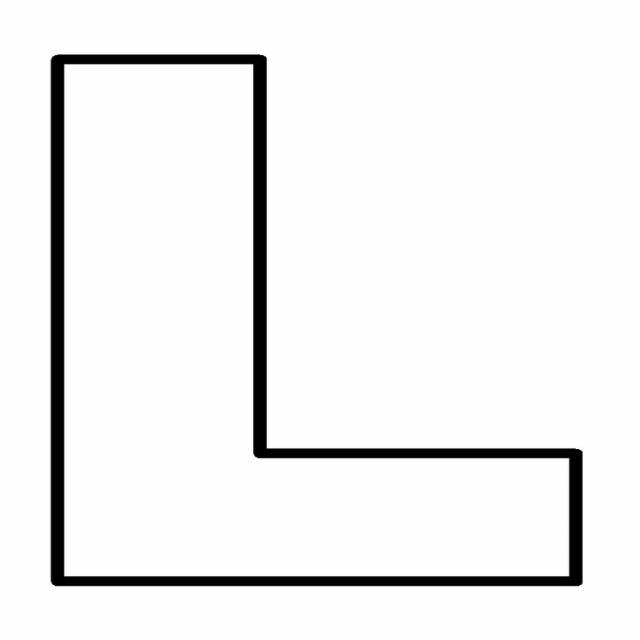L: (21, 31, 611, 610)
